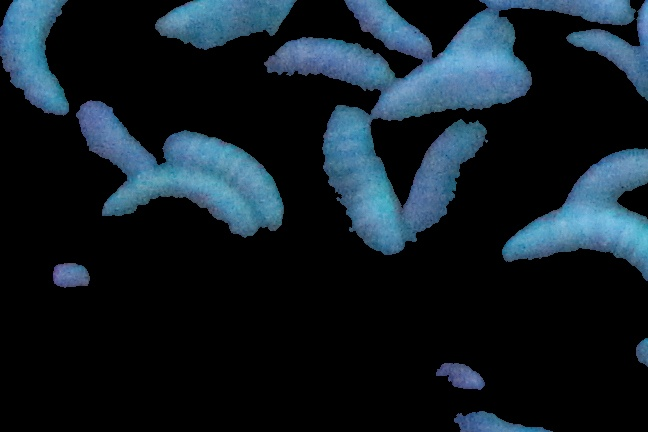larvae: (324, 108, 406, 257), (162, 127, 286, 222), (506, 203, 648, 280), (108, 170, 259, 241), (409, 114, 484, 236), (377, 57, 529, 114), (1, 1, 78, 111), (159, 1, 319, 45), (557, 138, 648, 205), (77, 104, 157, 178), (565, 31, 648, 98), (262, 43, 393, 85), (343, 1, 427, 55), (468, 1, 636, 23), (447, 7, 515, 58)
